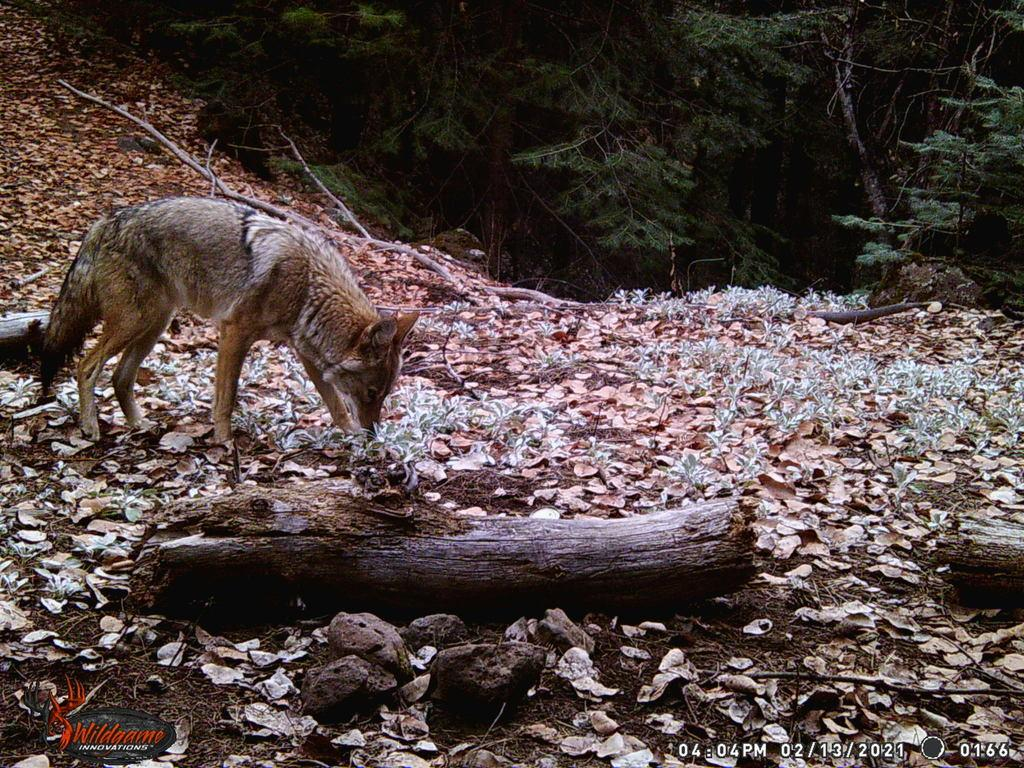Coyote: (17, 193, 426, 457)
